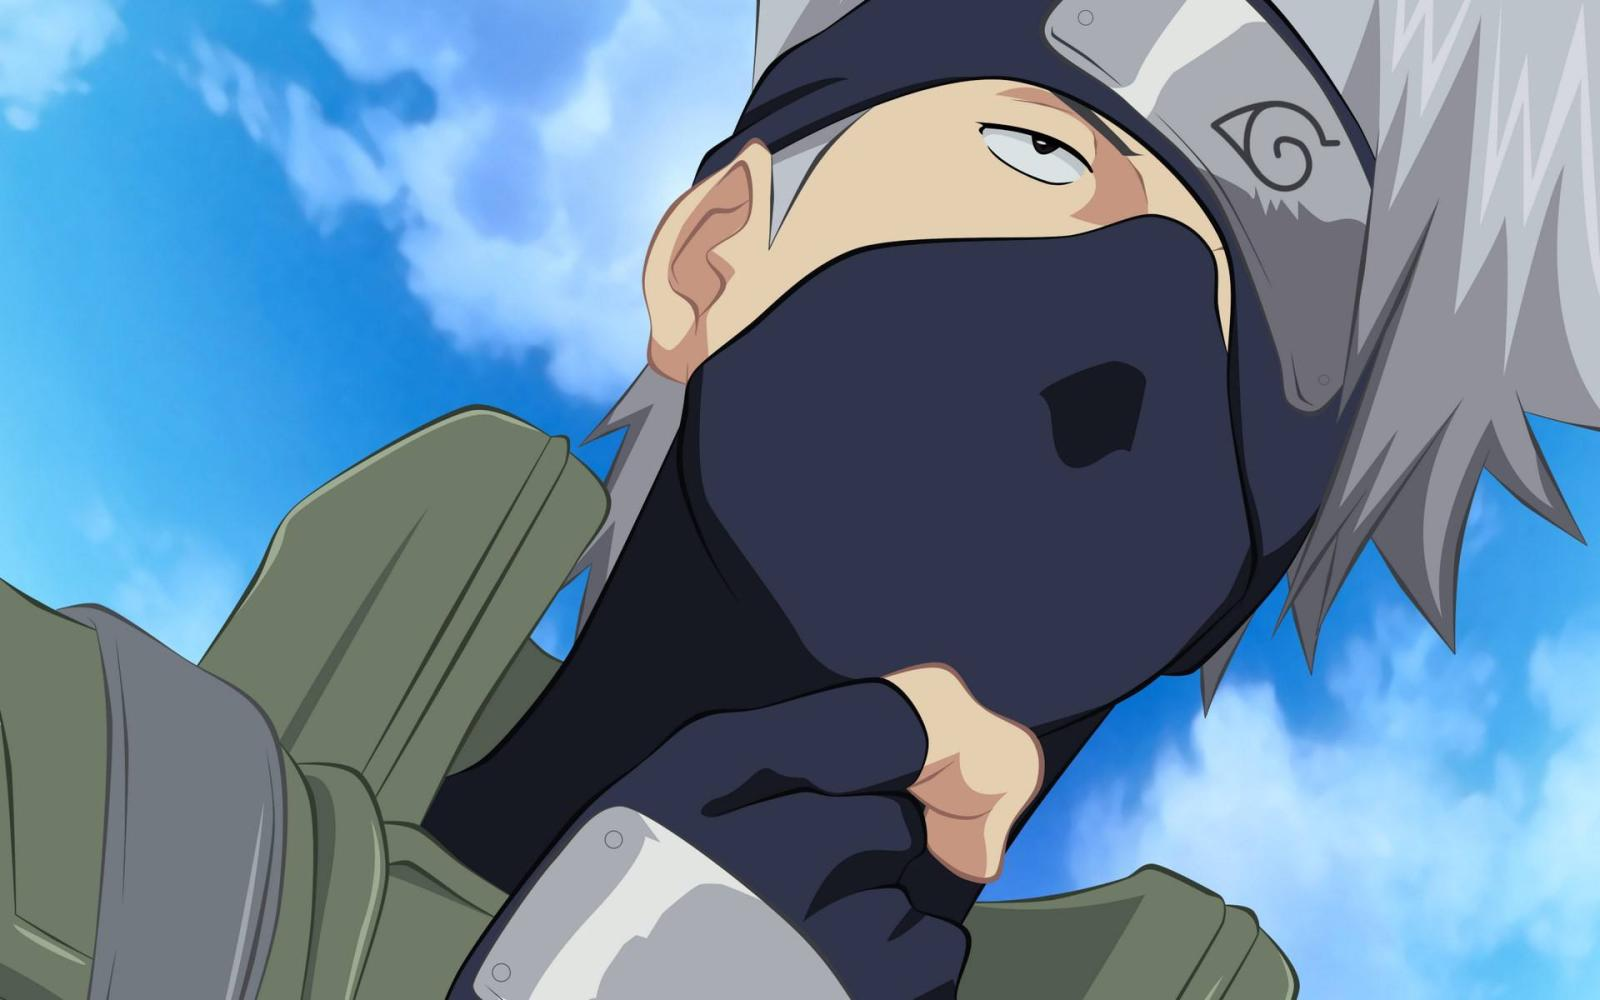kakashi: (642, 2, 1428, 720)
